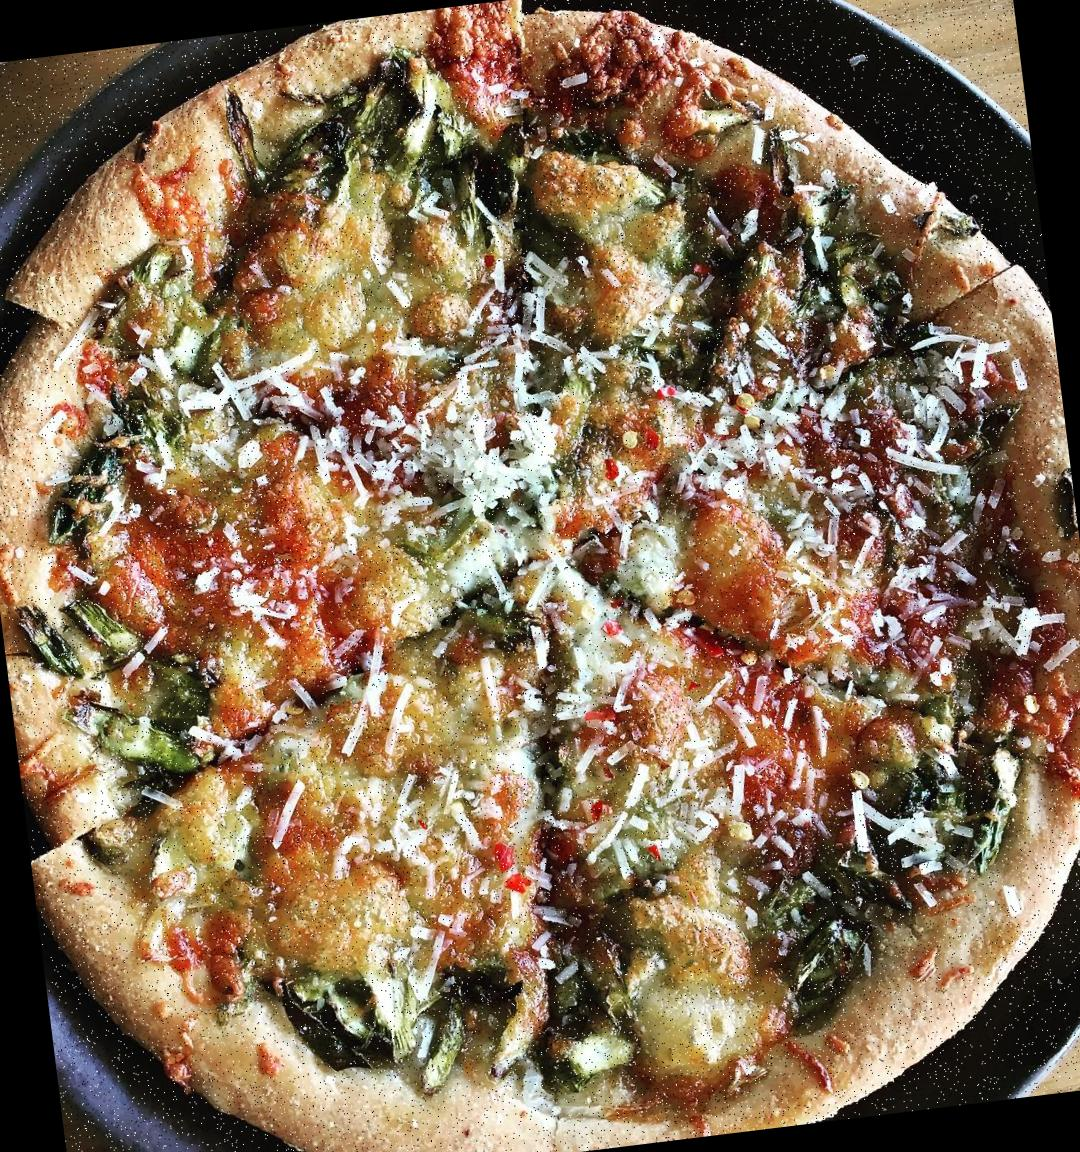Pizza: (0, 0, 1080, 1152)
Tomatoes: (124, 481, 319, 623), (675, 492, 786, 648)
